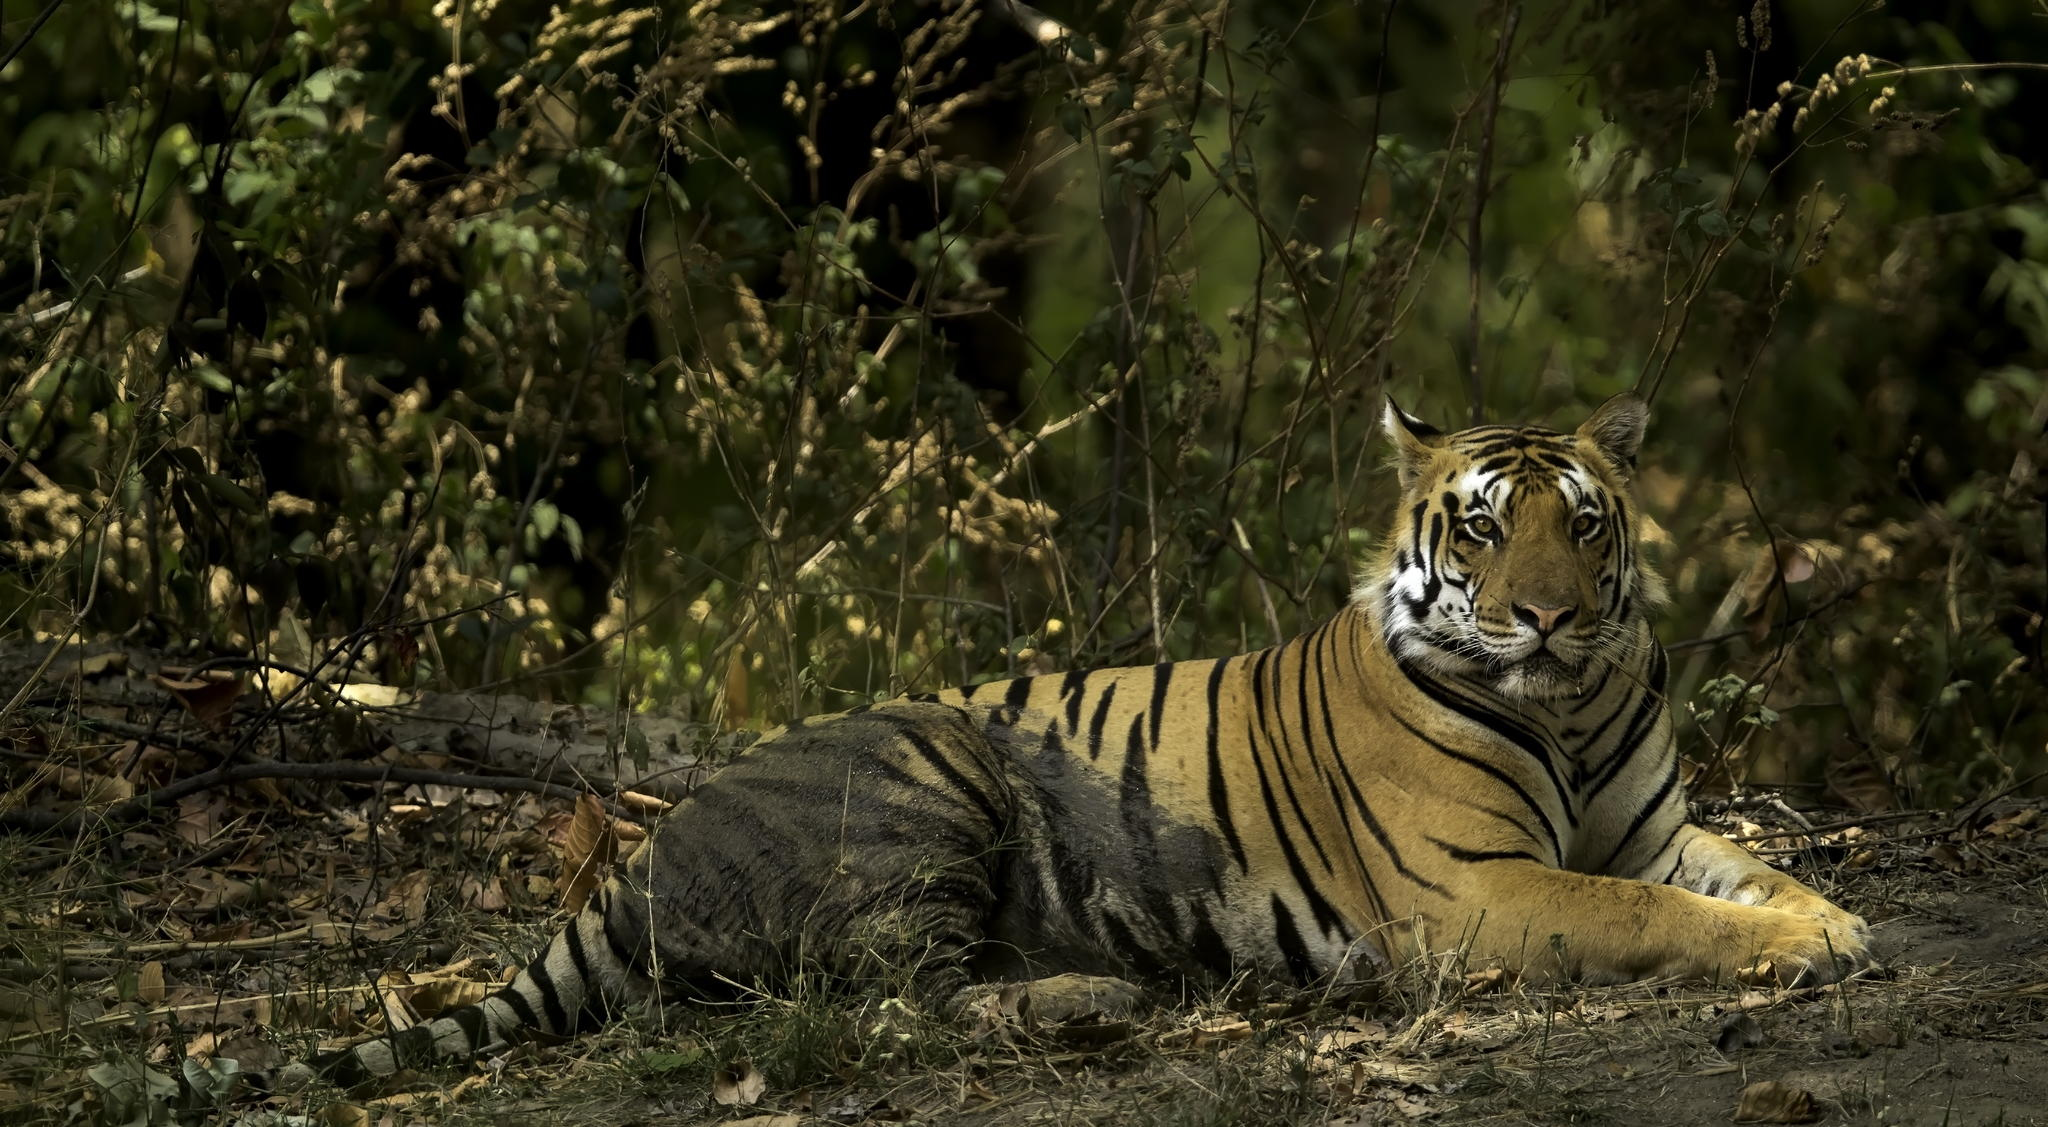tiger: (518, 405, 1800, 1076)
